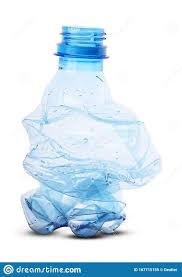available: (20, 20, 166, 244)
